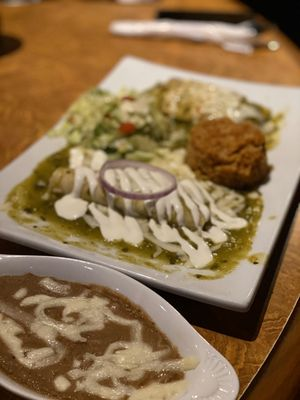sushi: (0, 257, 241, 400)
